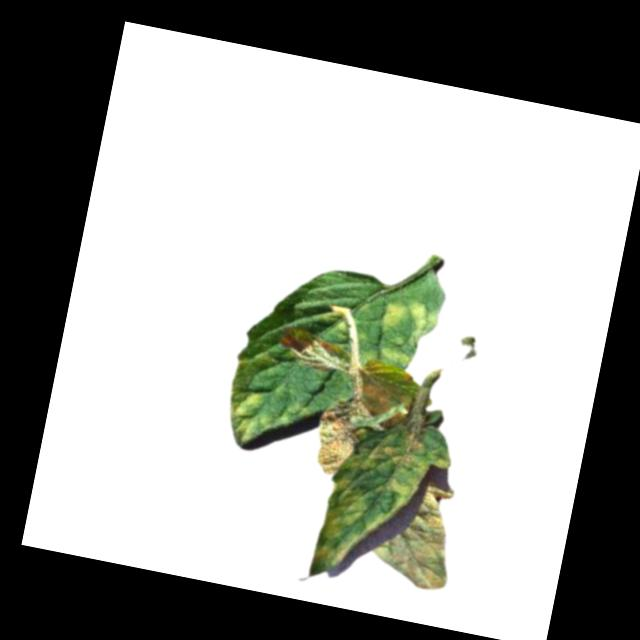Leaf_Mold: (371, 483, 462, 592), (344, 420, 457, 494), (309, 468, 376, 584), (219, 347, 285, 452), (373, 293, 449, 372), (309, 391, 367, 481)
